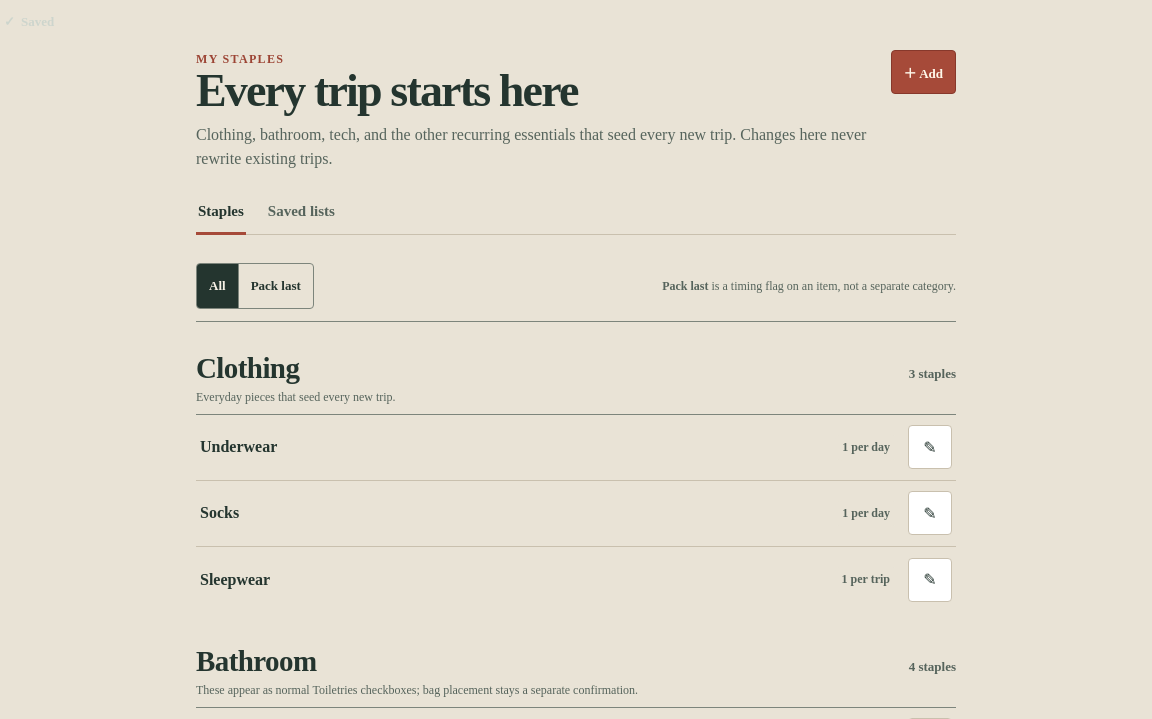
Test: the Pack last filter › says so when nothing is Pack last
The image size is (1152, 719).
Expected: the element named "Filter staples" is shown, [196,263,314,309]
What coordinates should you click on to do the following:
click the button "Pack last"
I would click on:
 (275, 286)
Its box is [238,264,313,308].
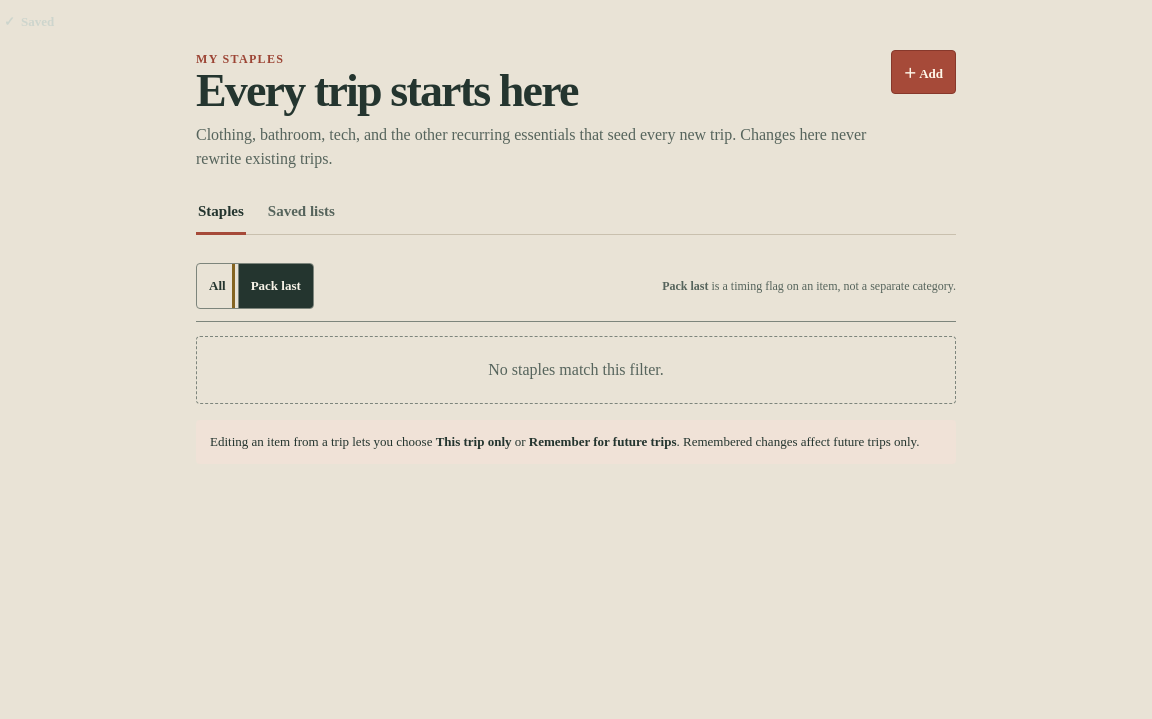
Result: the text "No staples match this filter." is shown at [196,336,956,404]
